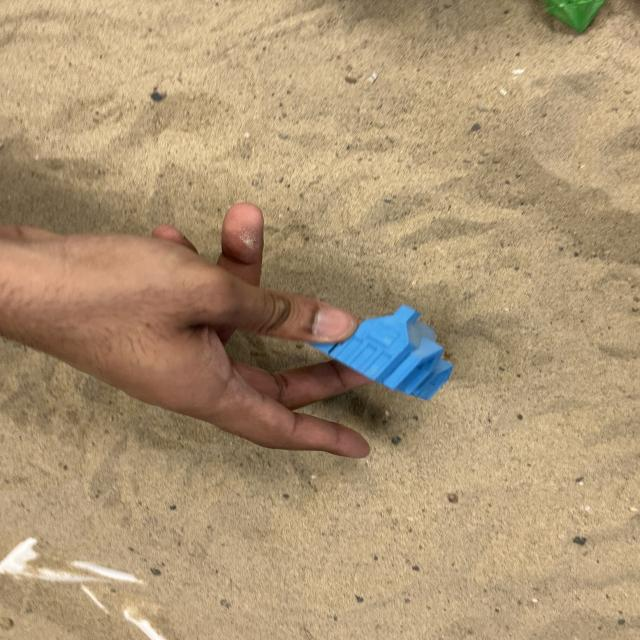house: (306, 303, 454, 401)
